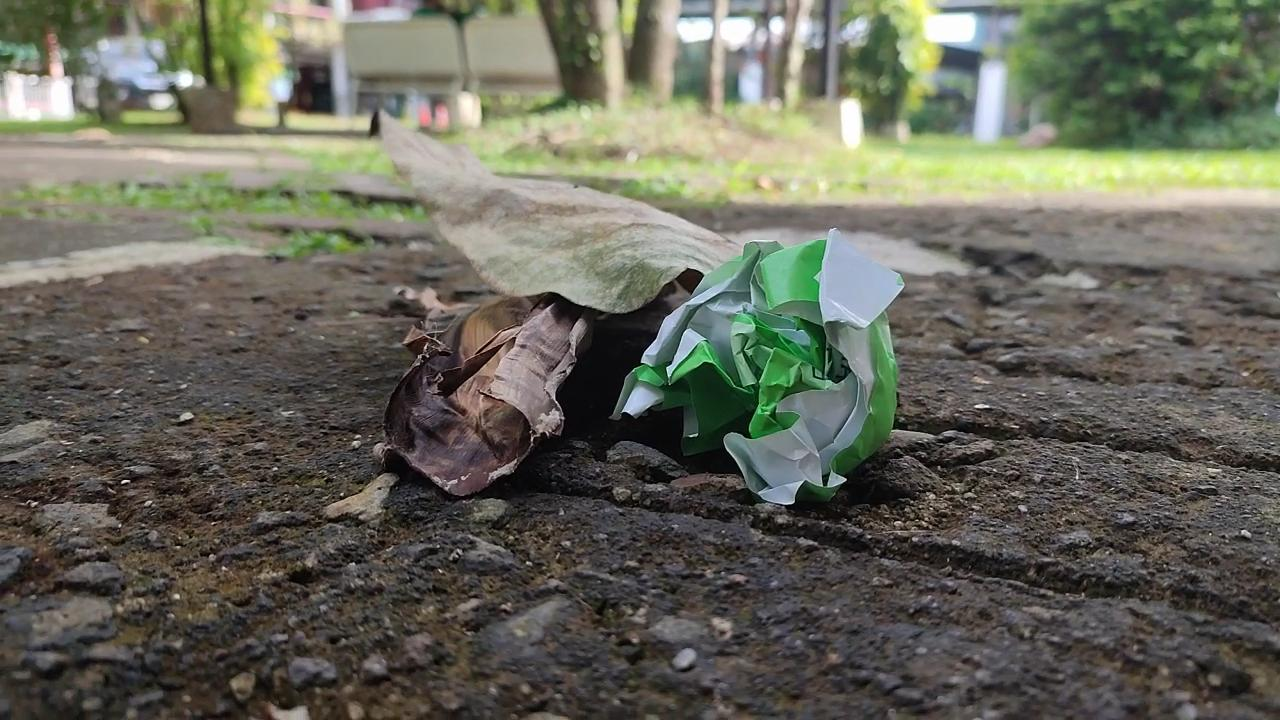Paper: (606, 222, 918, 513)
